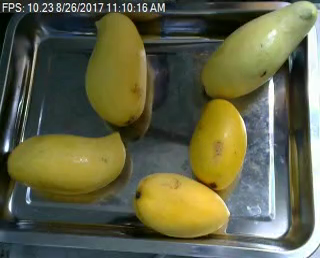Mango: (203, 0, 317, 101), (0, 131, 128, 199), (82, 9, 154, 123), (124, 169, 229, 237), (187, 97, 249, 190)
